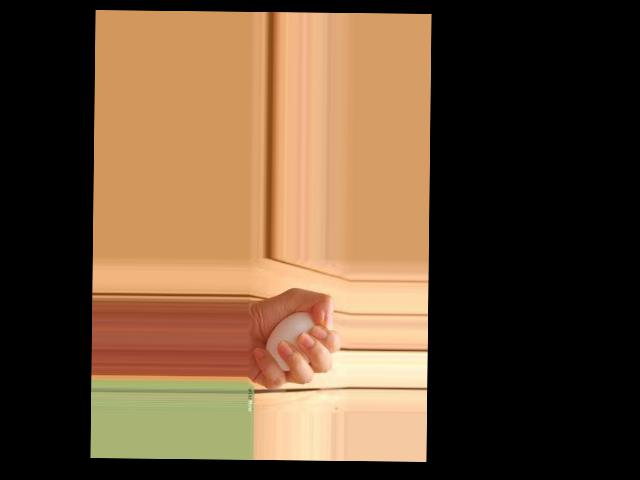egg: (265, 312, 320, 372)
